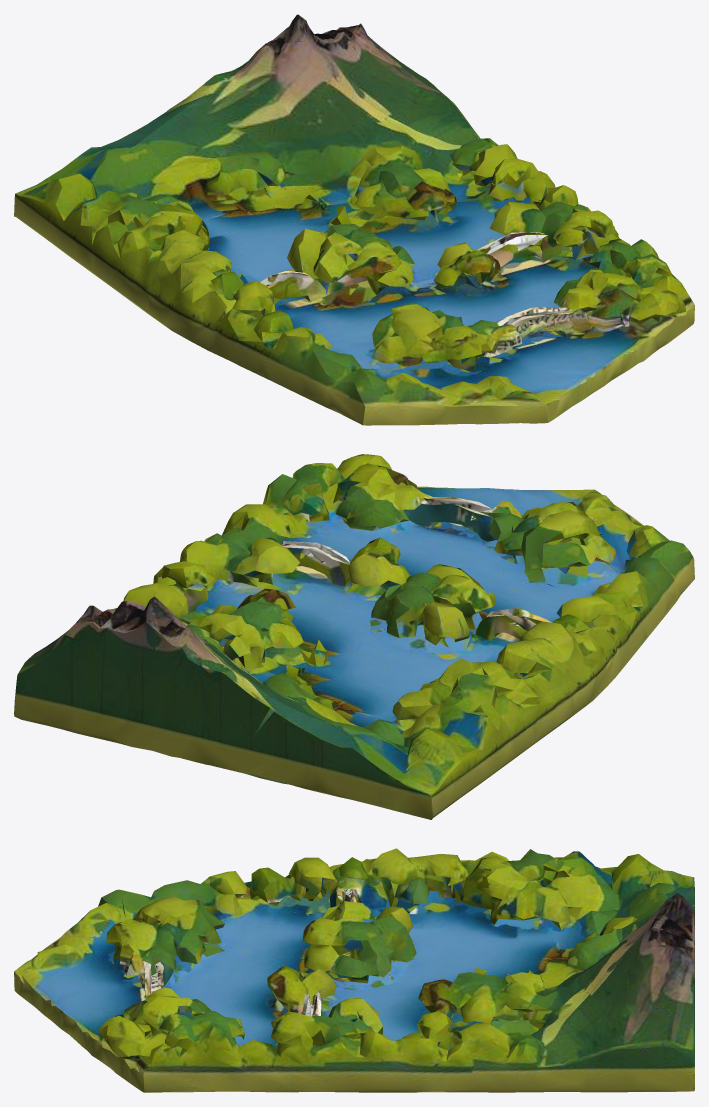
Rendered from onuma-park.glb.
The picture shows the model from 3 angles, top to bottom: view 1: azimuth 30°, elevation 25°; view 2: azimuth 150°, elevation 25°; view 3: azimuth 270°, elevation 25°; orthographic projection. The views are drawn at different scales.
Visible parts, largest first — view 1: logan-textured.obj; view 2: logan-textured.obj; view 3: logan-textured.obj.
Boxes of the visible parts, x1,y1,x2,y2 form: logan-textured.obj: (14, 14, 694, 425); logan-textured.obj: (14, 454, 694, 819); logan-textured.obj: (14, 848, 694, 1092).
Bounding box in the file's own units: 0.674 × 0.2272 × 1.
Materials: 1 (1 with a texture image).
